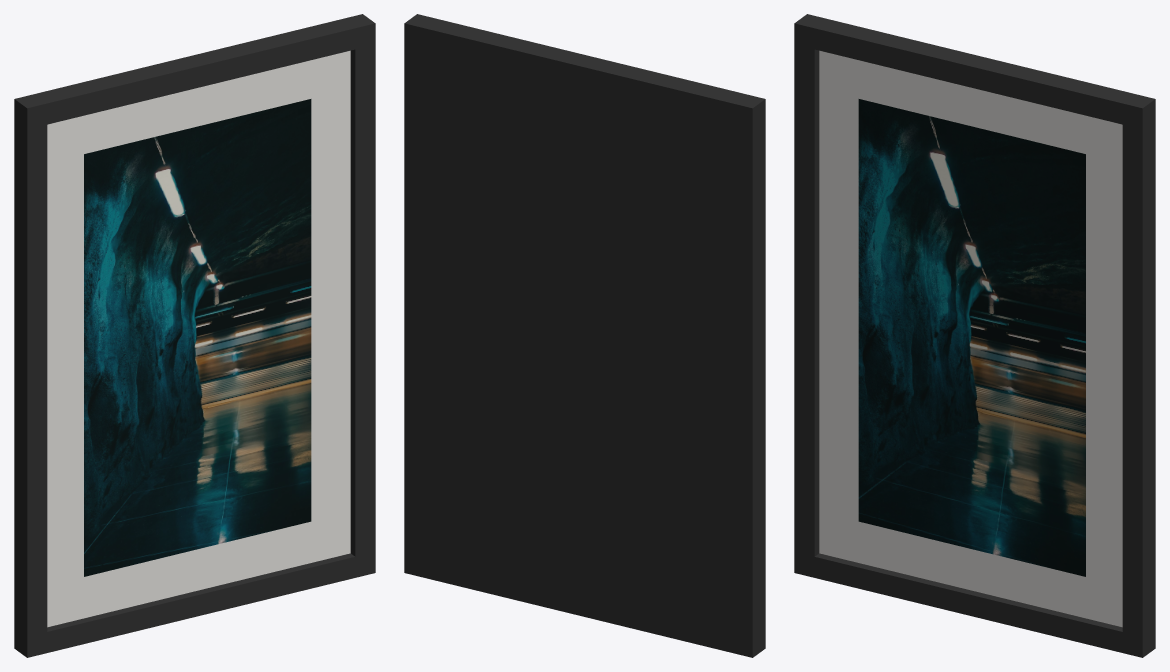
File: grottan-40.gltf
3 renders of one model, left to right at view 1: azimuth 30°, elevation 25°; view 2: azimuth 150°, elevation 25°; view 3: azimuth 330°, elevation 25°, orthographic.
Visible parts, largest first — view 1: tavla; view 2: tavla; view 3: tavla.
Part boxes in pixels (<box>): tavla: <box>14,14,375,657</box>; tavla: <box>404,14,765,657</box>; tavla: <box>794,14,1155,657</box>.
Bounding box in the file's own units: 0.3449 × 0.52 × 0.022.
3 materials, 1 textured.
